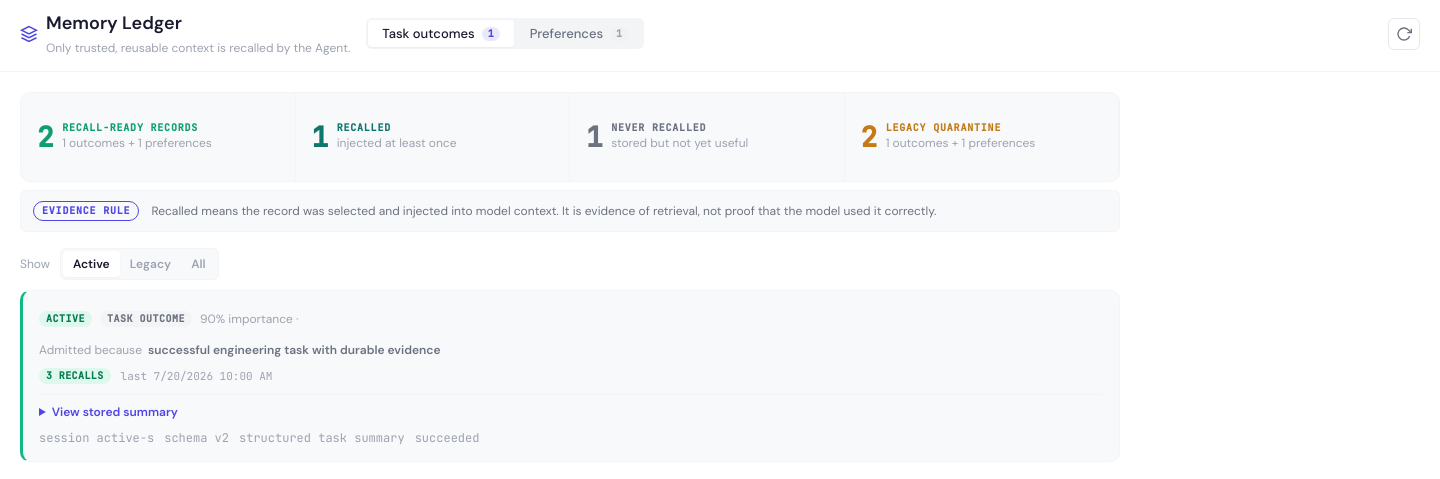
MemoryViewer quality governance › shows legacy inferred preferences as zero-evidence quarantine records
Click the button "Preferences 1".
click(579, 34)  # box [516,20,642,47]
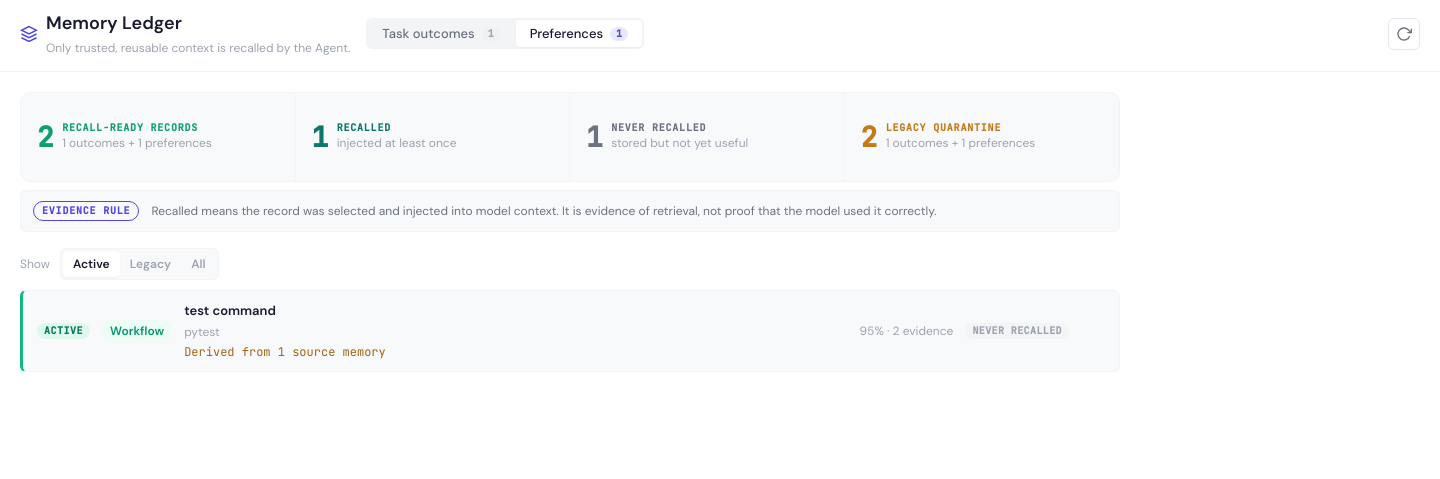
Click the button "Legacy".
click(150, 264)  # box [120,251,181,277]
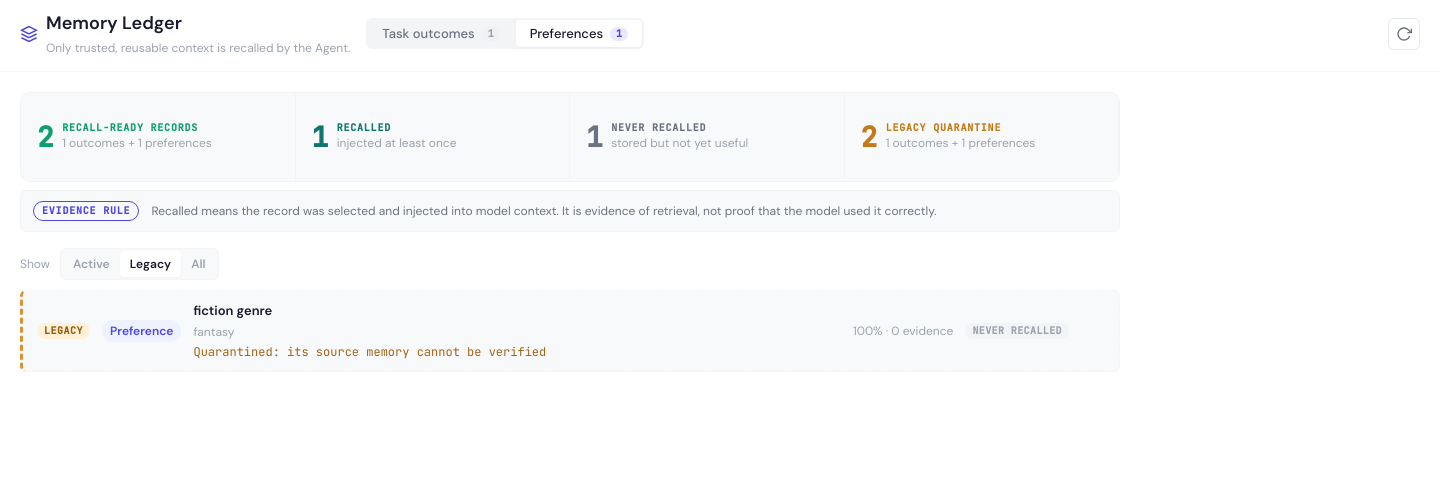
Expected: the text "fiction genre" is shown, [193,302,272,319]
Expected: the text "0 evidence" is shown, [853,323,953,339]
Expected: the text "its source memory cannot be verified" is shown, [193,344,546,360]
